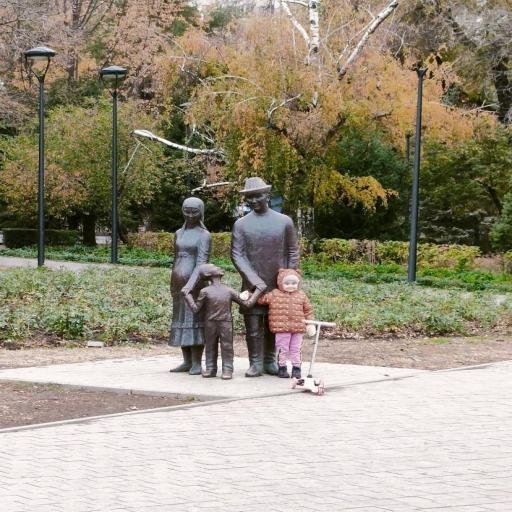bus_stop: (259, 269, 314, 379)
phone: (408, 68, 426, 283), (38, 77, 45, 266)
shelf: (0, 362, 511, 512)
